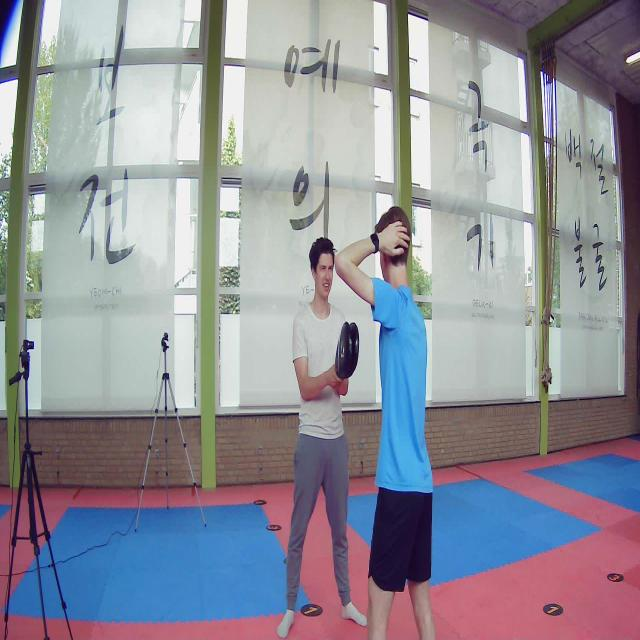paddle: (334, 321, 360, 378)
